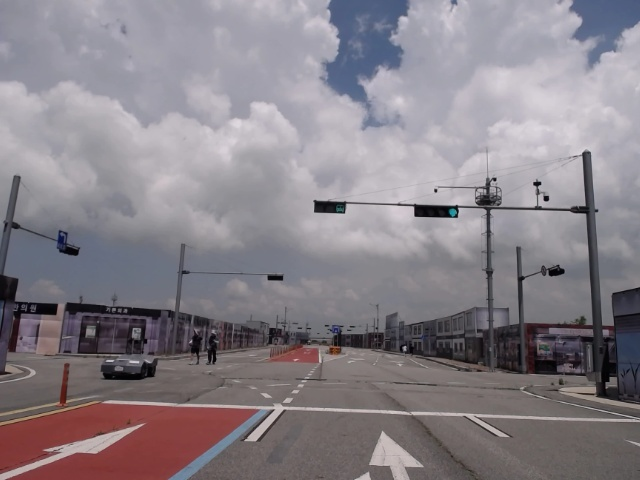straight_green_4: (414, 205, 460, 217)
